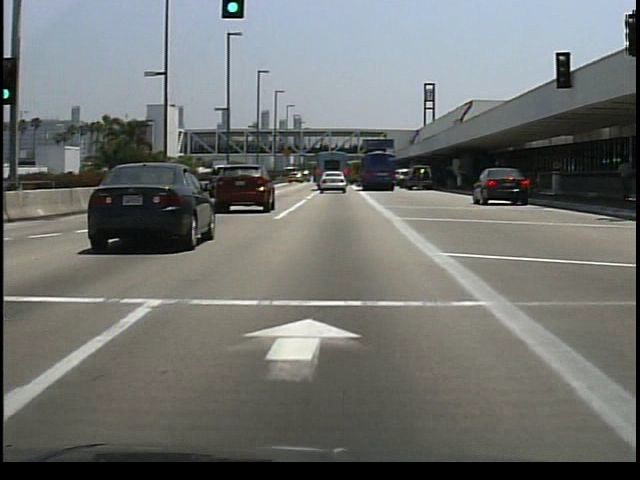person: (611, 155, 635, 207)
